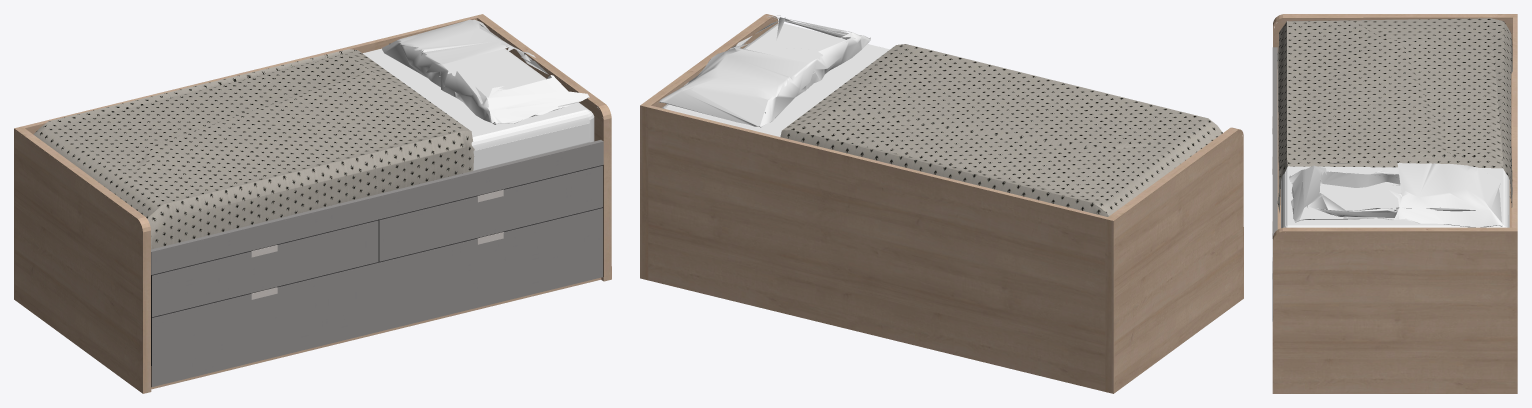
Rendered from 3392_69_TOIB.gltf.
3 views of the same model, side by side, from view 1: azimuth 30°, elevation 25°; view 2: azimuth 150°, elevation 25°; view 3: azimuth 270°, elevation 25° (orthographic). The views are drawn at different scales.
Visible parts, largest first — view 1: Mesh2_Agrupar_2_Model080, Mesh2_Agrupar_2_Model022, Mesh2_Agrupar_2_Model100, Mesh2_Agrupar_2_Model001, Mesh2_Agrupar_2_Model099, Mesh2_Agrupar_2_Model000, Mesh2_Agrupar_2_Model023, Mesh2_Agrupar_2_Model098, Mesh2_Agrupar_2_Model002; view 2: Mesh2_Agrupar_2_Model100, Mesh2_Agrupar_2_Model080, Mesh2_Agrupar_2_Model098, Mesh2_Agrupar_2_Model099; view 3: Mesh2_Agrupar_2_Model100, Mesh2_Agrupar_2_Model080, Mesh2_Agrupar_2_Model098, Mesh2_Agrupar_2_Model099, Mesh2_Agrupar_2_Model001.
Boxes of the visible parts, left/top/right/bottom form: Mesh2_Agrupar_2_Model080: left=33, top=49, right=474, bottom=249; Mesh2_Agrupar_2_Model022: left=151, top=208, right=602, bottom=386; Mesh2_Agrupar_2_Model100: left=14, top=14, right=611, bottom=393; Mesh2_Agrupar_2_Model001: left=151, top=140, right=603, bottom=274; Mesh2_Agrupar_2_Model099: left=363, top=48, right=594, bottom=170; Mesh2_Agrupar_2_Model000: left=151, top=220, right=378, bottom=317; Mesh2_Agrupar_2_Model023: left=379, top=165, right=602, bottom=261; Mesh2_Agrupar_2_Model098: left=382, top=19, right=589, bottom=124; Mesh2_Agrupar_2_Model002: left=151, top=165, right=603, bottom=387; Mesh2_Agrupar_2_Model100: left=640, top=14, right=1243, bottom=393; Mesh2_Agrupar_2_Model080: left=780, top=44, right=1222, bottom=216; Mesh2_Agrupar_2_Model098: left=659, top=15, right=870, bottom=127; Mesh2_Agrupar_2_Model099: left=662, top=23, right=889, bottom=136; Mesh2_Agrupar_2_Model100: left=1272, top=14, right=1517, bottom=393; Mesh2_Agrupar_2_Model080: left=1277, top=18, right=1512, bottom=212; Mesh2_Agrupar_2_Model098: left=1289, top=163, right=1502, bottom=227; Mesh2_Agrupar_2_Model099: left=1281, top=166, right=1509, bottom=227; Mesh2_Agrupar_2_Model001: left=1272, top=47, right=1277, bottom=278.
Bounding box in the file's own units: 4.24 × 1.68 × 2.02.
21 materials, 18 textured.
